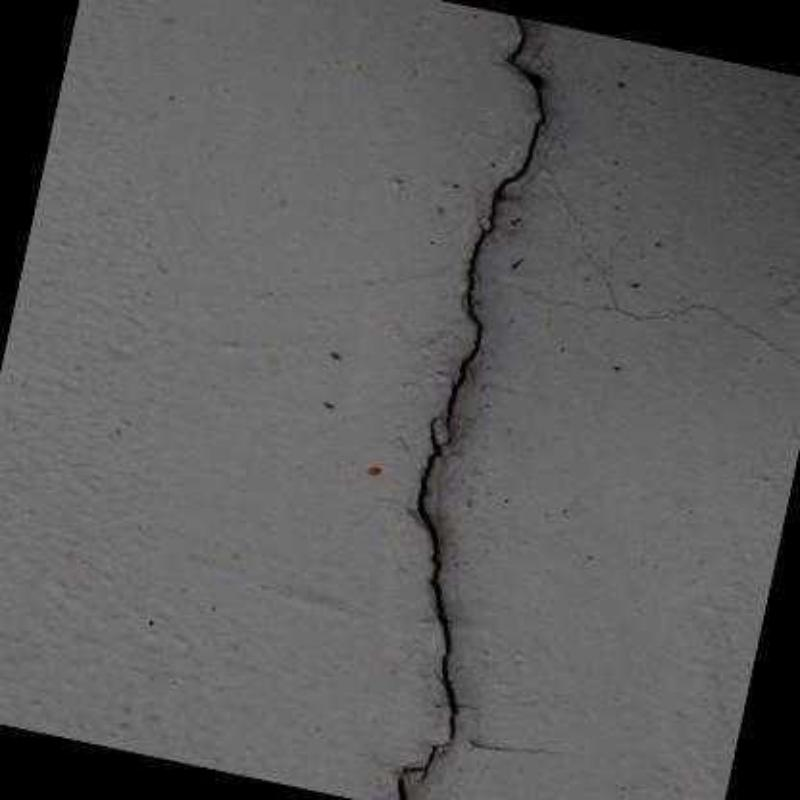pothole: (492, 167, 798, 365), (440, 16, 546, 447), (418, 415, 457, 780), (469, 740, 554, 754), (395, 767, 424, 798)
